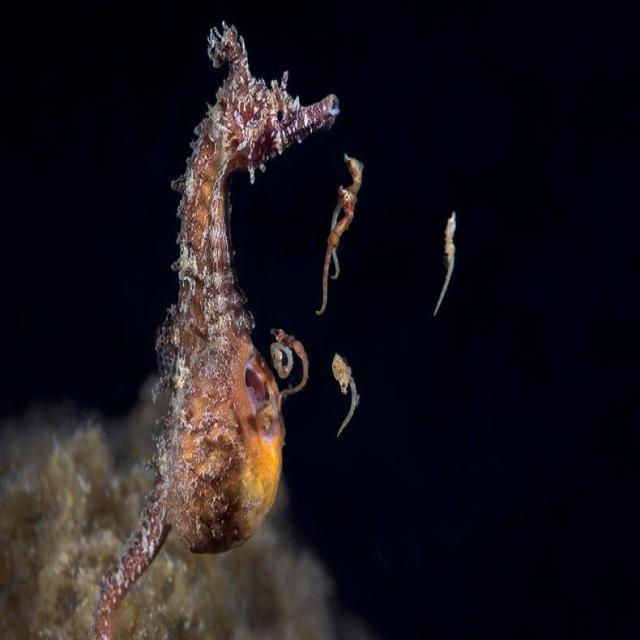seahorse: (92, 23, 339, 639), (317, 156, 362, 314)
